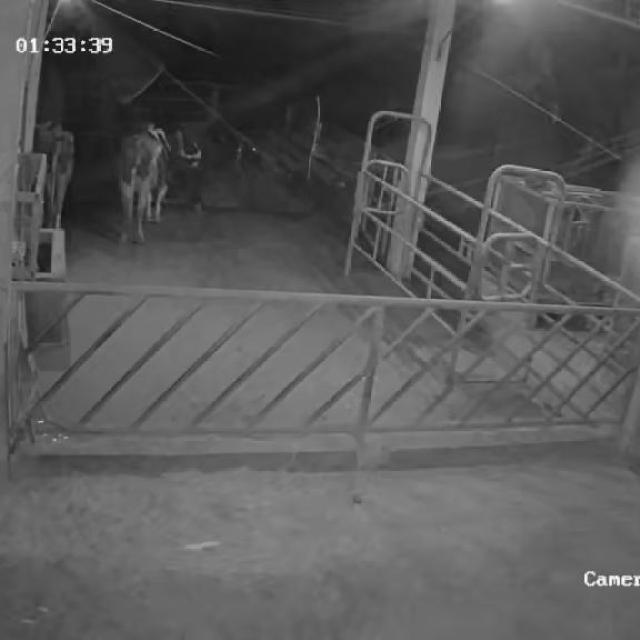standing: (111, 120, 207, 249), (34, 112, 86, 240)
